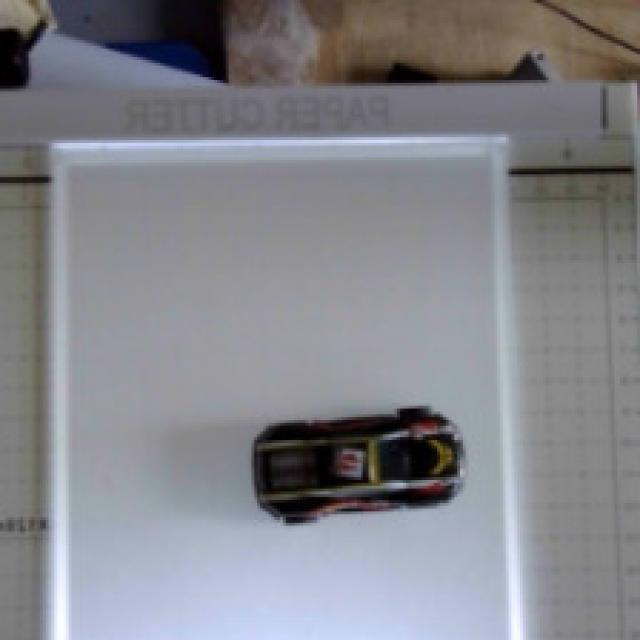Red Car: (211, 362, 467, 584)
